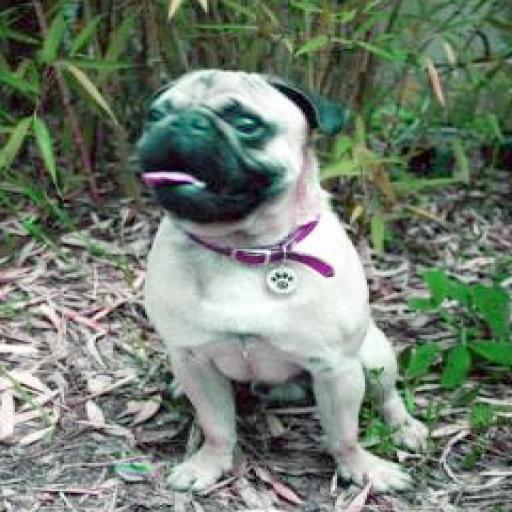dog_face: (120, 66, 326, 220)
